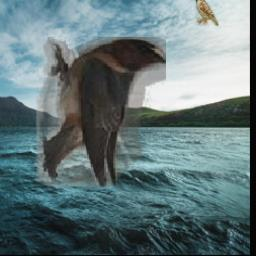Sparrow: (194, 0, 220, 26)
Swallow: (36, 37, 166, 187)
